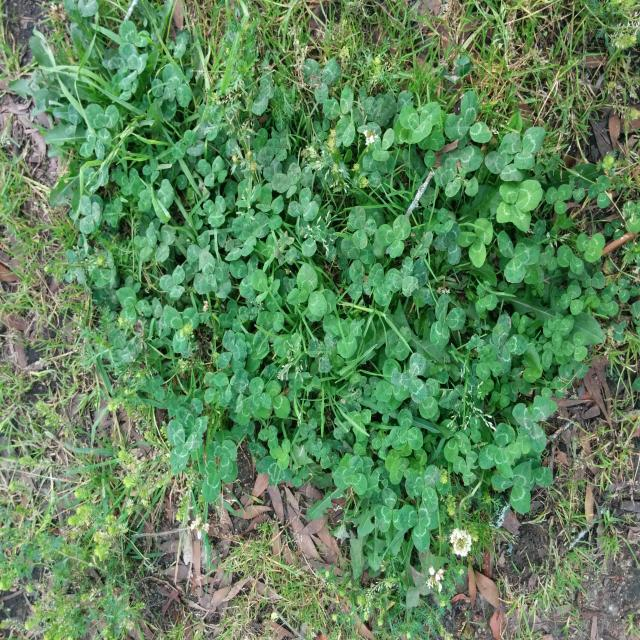Four Leaf Clover: (496, 179, 543, 232)
